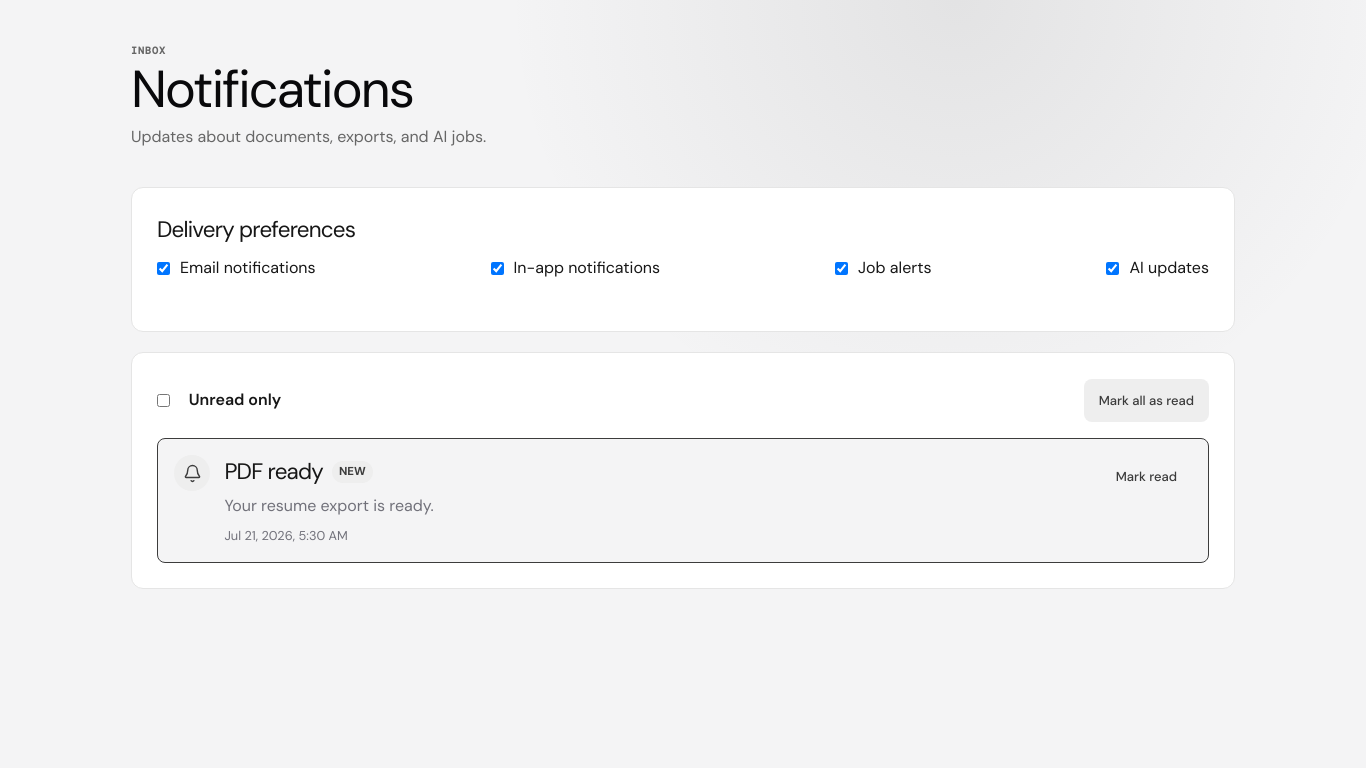
Test: NotificationsPanel › shows an error when marking a notification as read fails
Step 1. Click the button with aria-label "Mark PDF ready as read" → x=1146, y=477, box 1101,455 -> 1192,499
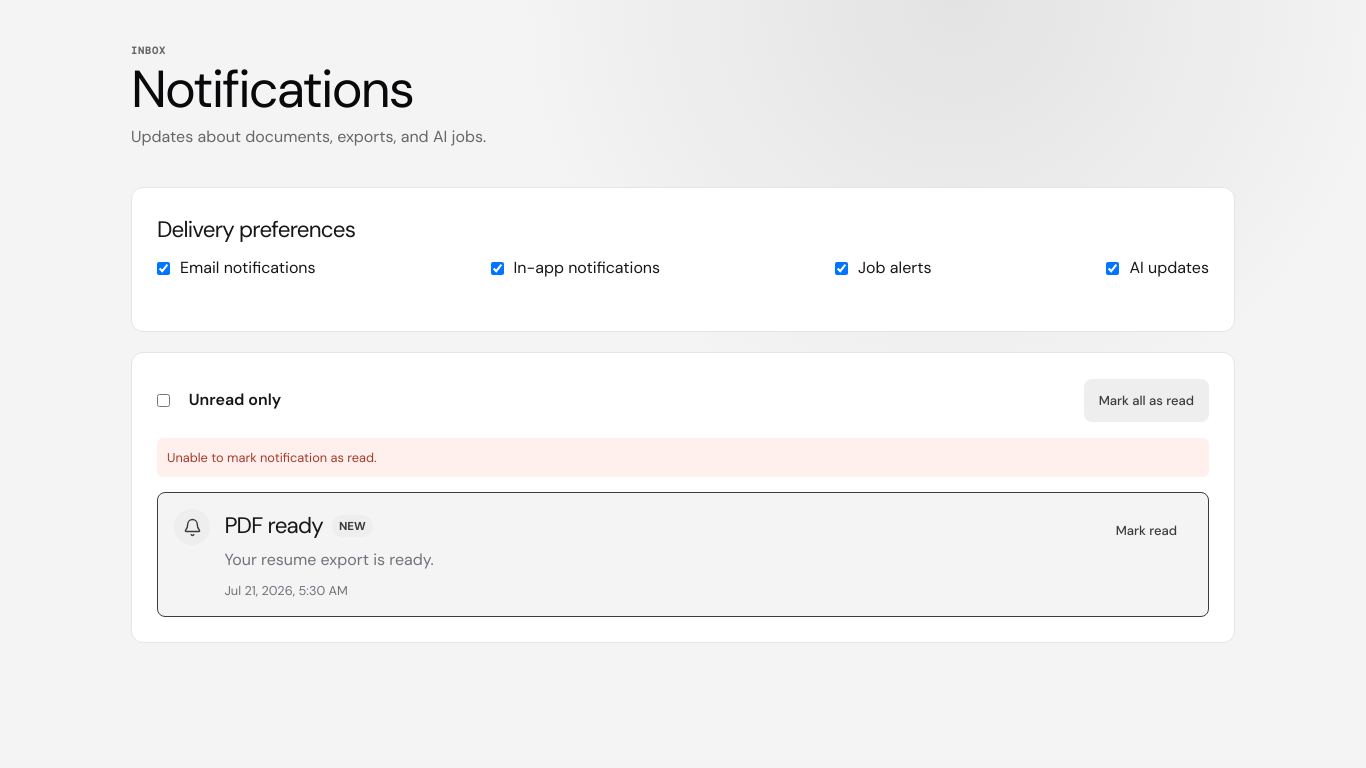
Check: the message reads "Unable to mark notification as read.", box 167,449 -> 377,466
